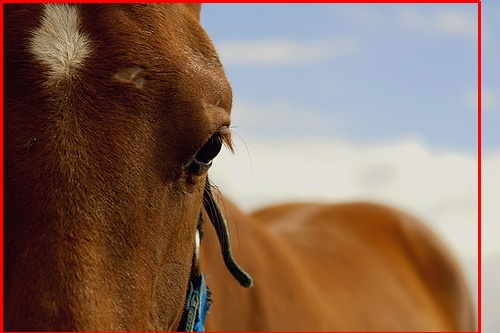horse: (1, 1, 479, 333)
